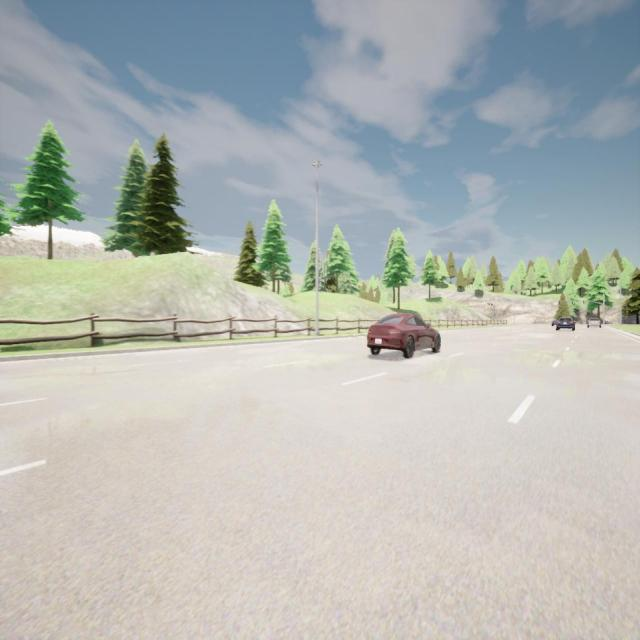Vehicle: (368, 311, 440, 357), (556, 316, 575, 331), (586, 317, 602, 328), (552, 319, 558, 326)
